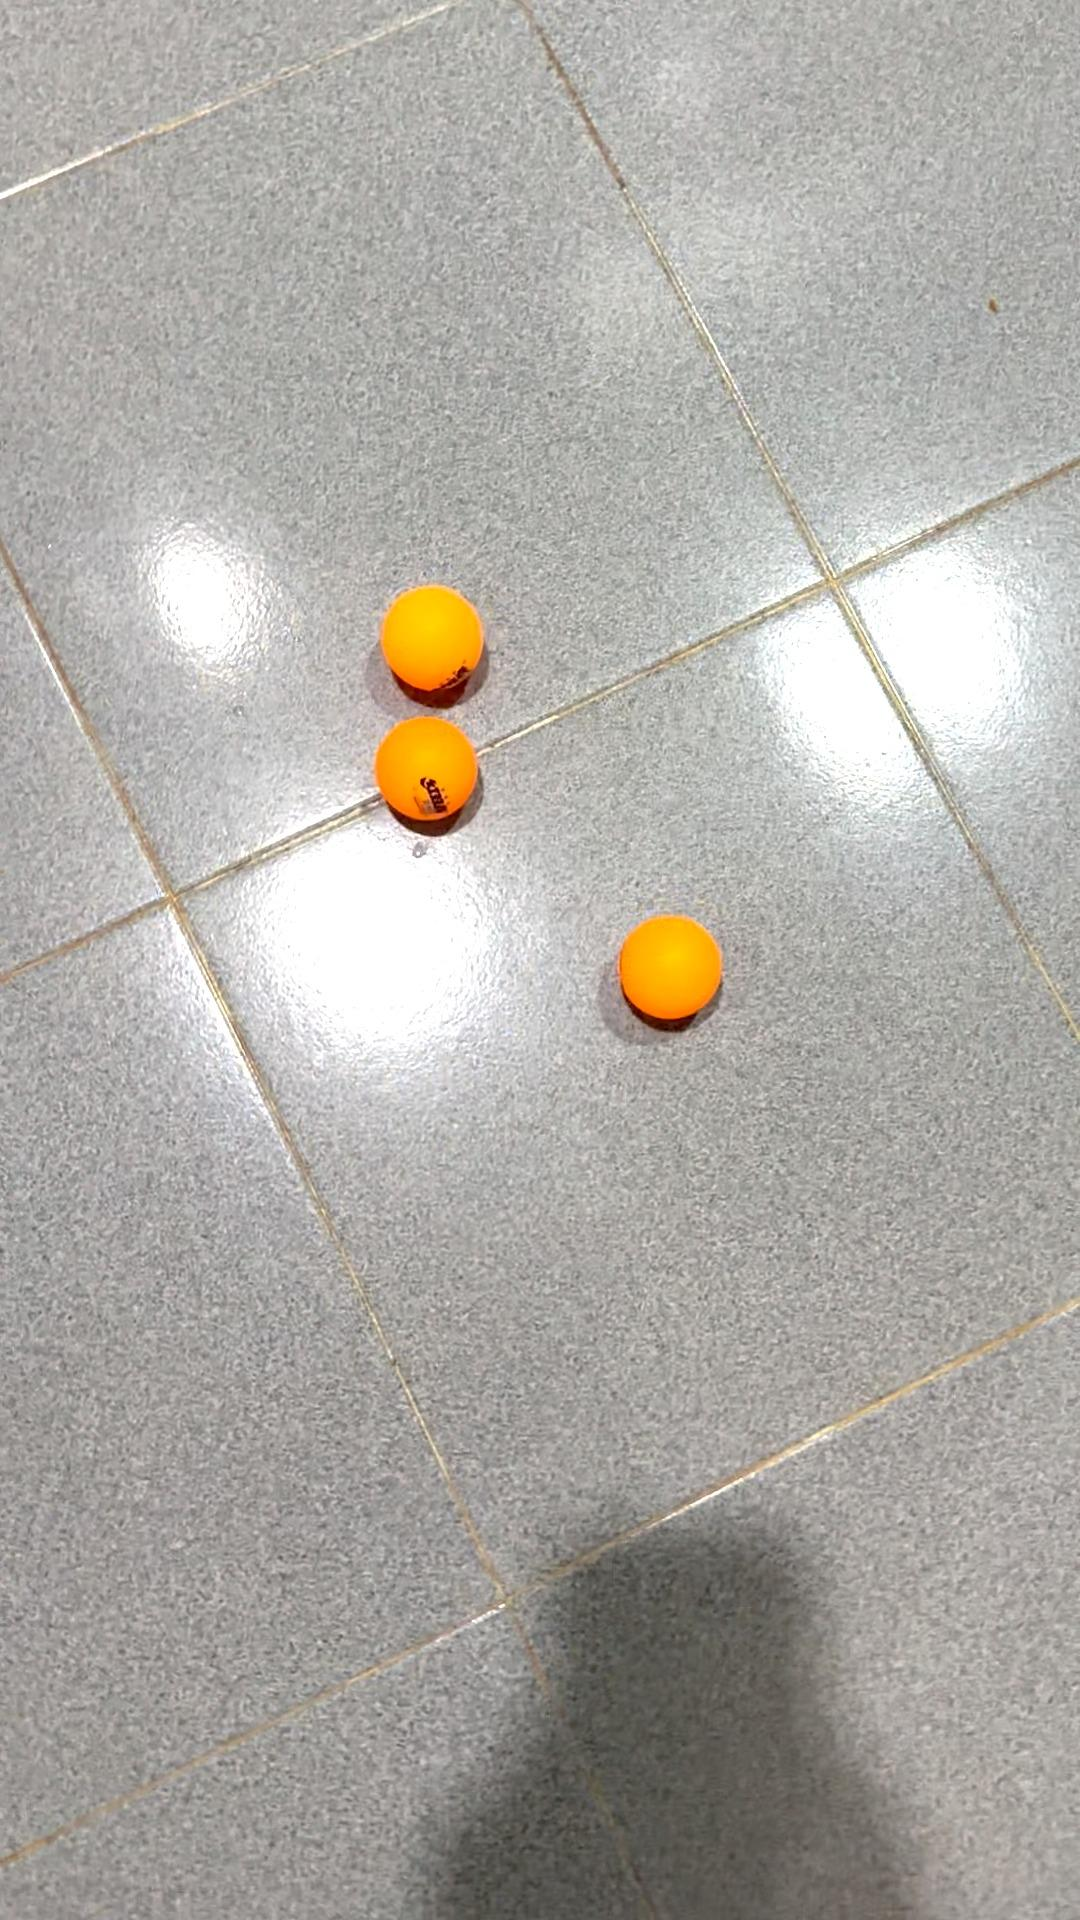oball: (371, 691, 497, 840), (375, 575, 500, 708), (608, 911, 728, 1033)
